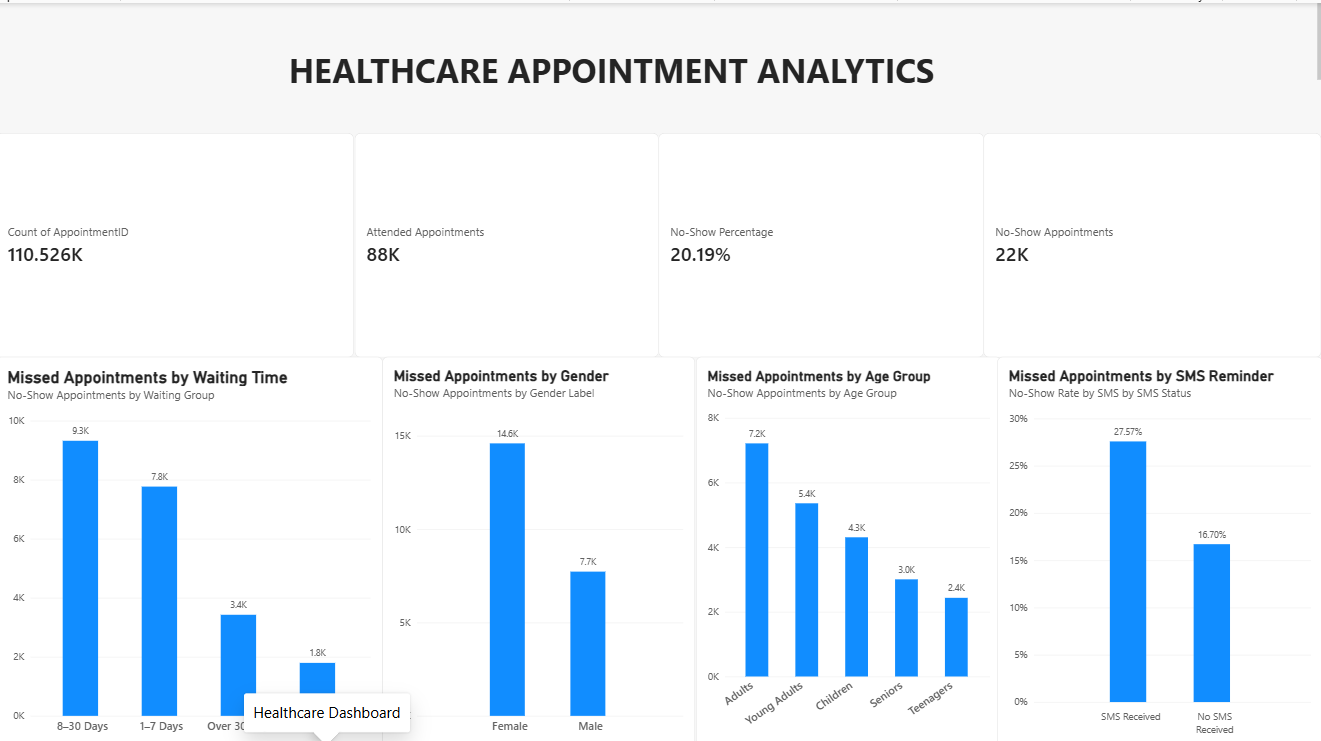

What the dashboard file says about the page in this screenshot:
{"tool":"powerbi","page":{"name":"Healthcare Dashboard","canvas":[1920,1080],"ordinal":1},"visuals":[{"type":"cardVisual","fields":{"Data":["CountNonNull(healthcare_db appointments.AppointmentID)"]},"box":[0,187.3,518.7,325.2],"z":0},{"type":"cardVisual","fields":{"Data":["healthcare_db appointments.Attended Appointments"]},"box":[518.7,187.3,440.5,325.2],"z":1000},{"type":"cardVisual","fields":{"Data":["healthcare_db appointments.No-Show Percentage"]},"box":[959.2,187.3,471.4,325.2],"z":2000},{"type":"cardVisual","fields":{"Data":["healthcare_db appointments.No-Show Appointments"]},"box":[1430.5,187.3,489.9,325.2],"z":3000},{"type":"clusteredColumnChart","title":"Missed Appointments by Gender","fields":{"Y":["healthcare_db appointments.No-Show Appointments"],"Category":["healthcare_db appointments.Gender Label"]},"box":[559.9,512.5,452.8,568.1],"z":4000},{"type":"clusteredColumnChart","title":"Missed Appointments by Age Group","fields":{"Category":["healthcare_db appointments.Age Group"],"Y":["healthcare_db appointments.No-Show Appointments"]},"box":[1012.7,512.5,442.5,568.1],"z":5000},{"type":"clusteredColumnChart","title":"Missed Appointments by SMS Reminder","fields":{"Y":["healthcare_db appointments.No-Show Rate by SMS"],"Category":["healthcare_db appointments.SMS Status"]},"box":[1449.1,512.5,471.4,568.1],"z":6000},{"type":"clusteredColumnChart","title":"Missed Appointments by Waiting Time","fields":{"Category":["healthcare_db appointments.Waiting Group"],"Y":["healthcare_db appointments.No-Show Appointments"]},"box":[0,512.5,559.9,568.1],"z":7000},{"type":"textbox","box":[0,0,1920.4,119.4],"z":8000}]}

Visuals, with their boxes in screenshot pixels (x1, y1, x2, y2), scaled from the page's 1920x1080 canvas onto the 1321x741 screenshot:
cardVisual - CountNonNull(healthcare_db appointments.AppointmentID): locate(0, 129, 357, 352)
cardVisual - healthcare_db appointments.Attended Appointments: locate(357, 129, 660, 352)
cardVisual - healthcare_db appointments.No-Show Percentage: locate(660, 129, 984, 352)
cardVisual - healthcare_db appointments.No-Show Appointments: locate(984, 129, 1320, 352)
"Missed Appointments by Gender" clusteredColumnChart: locate(385, 352, 697, 740)
"Missed Appointments by Age Group" clusteredColumnChart: locate(697, 352, 1001, 740)
"Missed Appointments by SMS Reminder" clusteredColumnChart: locate(997, 352, 1320, 740)
"Missed Appointments by Waiting Time" clusteredColumnChart: locate(0, 352, 385, 740)
textbox: locate(0, 0, 1320, 82)
